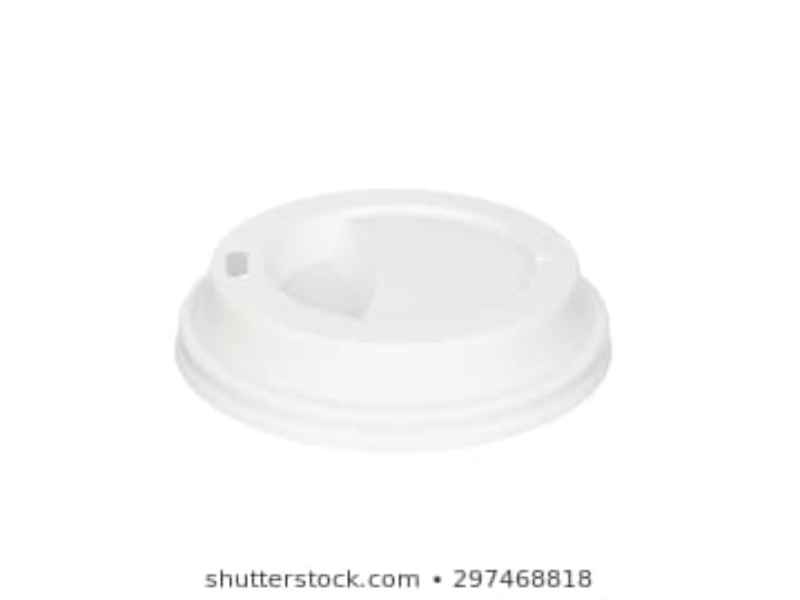coffee-lid: (170, 187, 615, 457)
